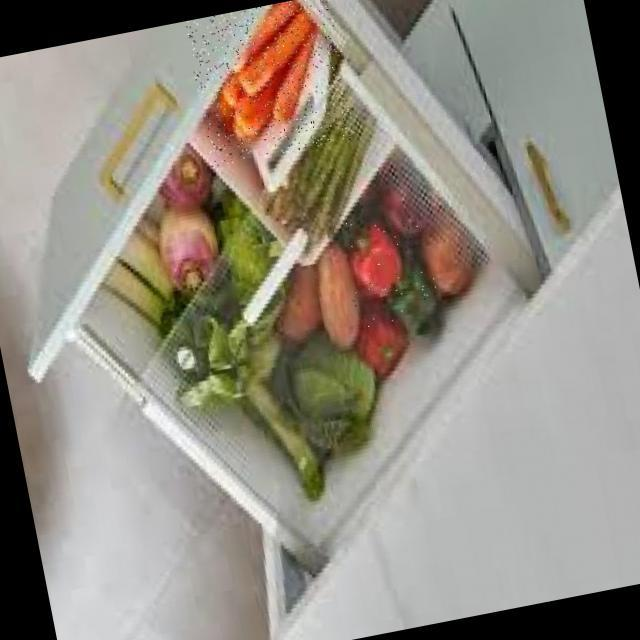Zanahoria: (182, 0, 354, 166)
peppers: (335, 205, 440, 329)
